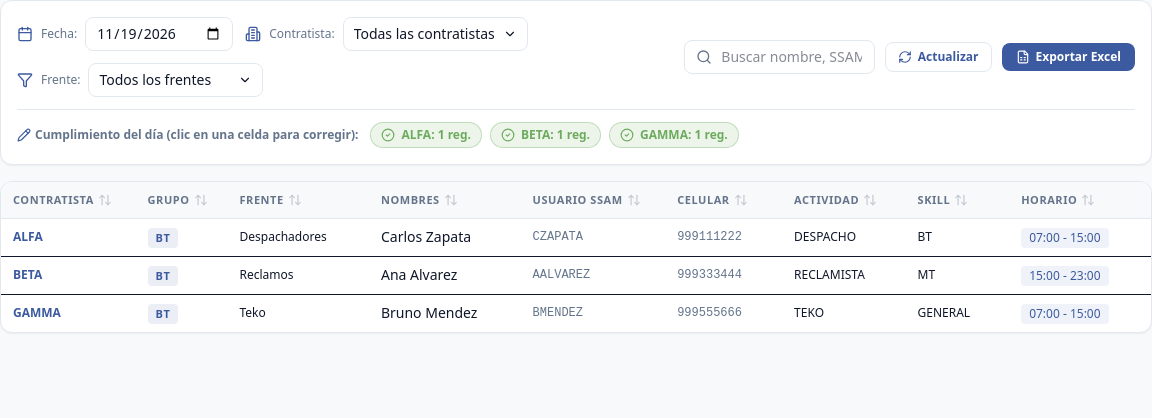
AdminTurnsView inline cell editing and yellow highlight › allows single-click inline edit on editable cells today and saves on Enter
Later steps or results of the test are not shown.
Note: Contratista and Grupo are NOT editable
Click the text "ALFA".
click(28, 237)  # box x1=1 y1=218 x2=136 y2=256
Click the text "999111222".
click(710, 237)  # box x1=677 y1=230 x2=742 y2=244
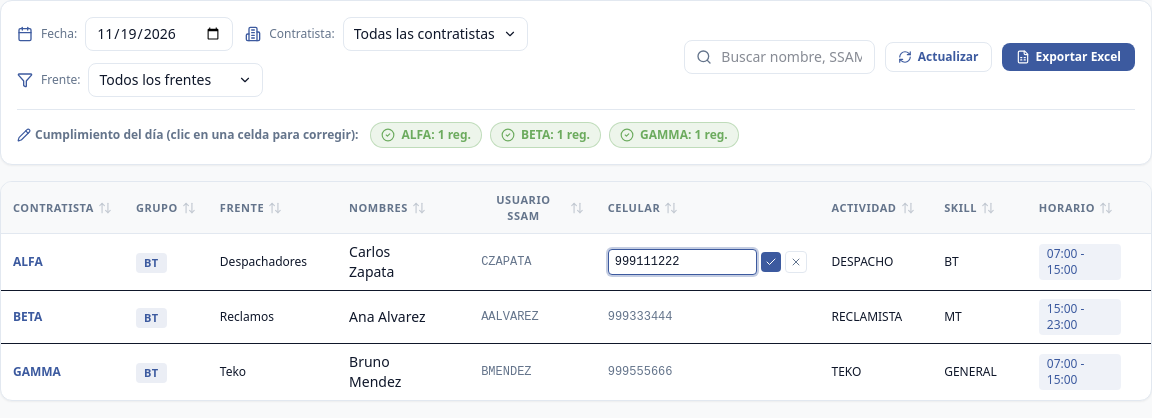
Expected: the field named "Editar Celular" holds "999111222", x1=608 y1=249 x2=758 y2=275
